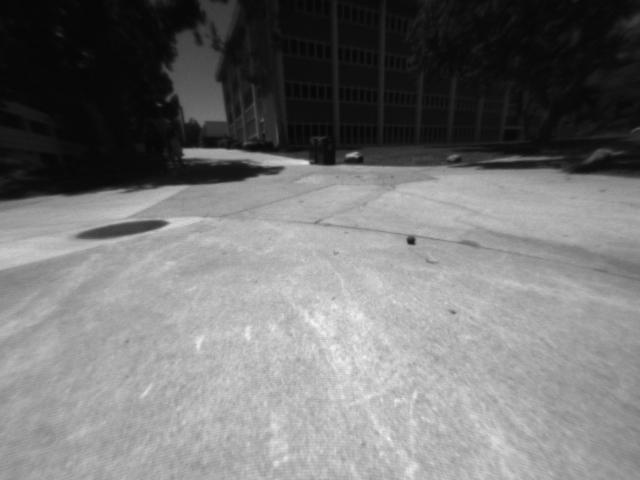dogtoy: (401, 227, 423, 250)
